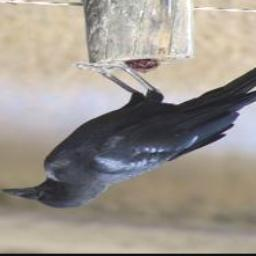Crow: (0, 59, 256, 212)
